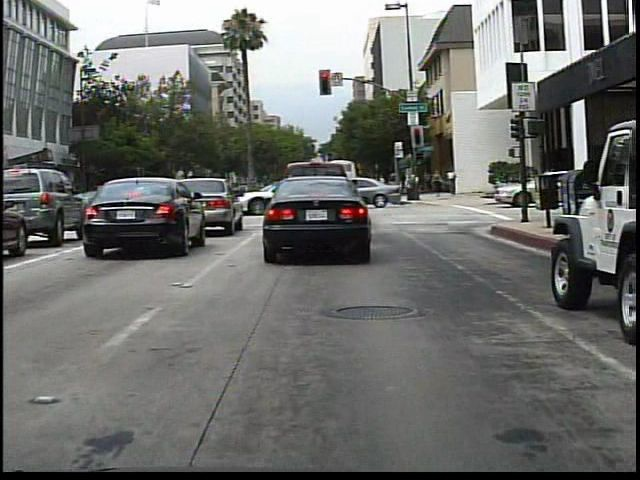person: (429, 163, 446, 199), (446, 166, 460, 199)
